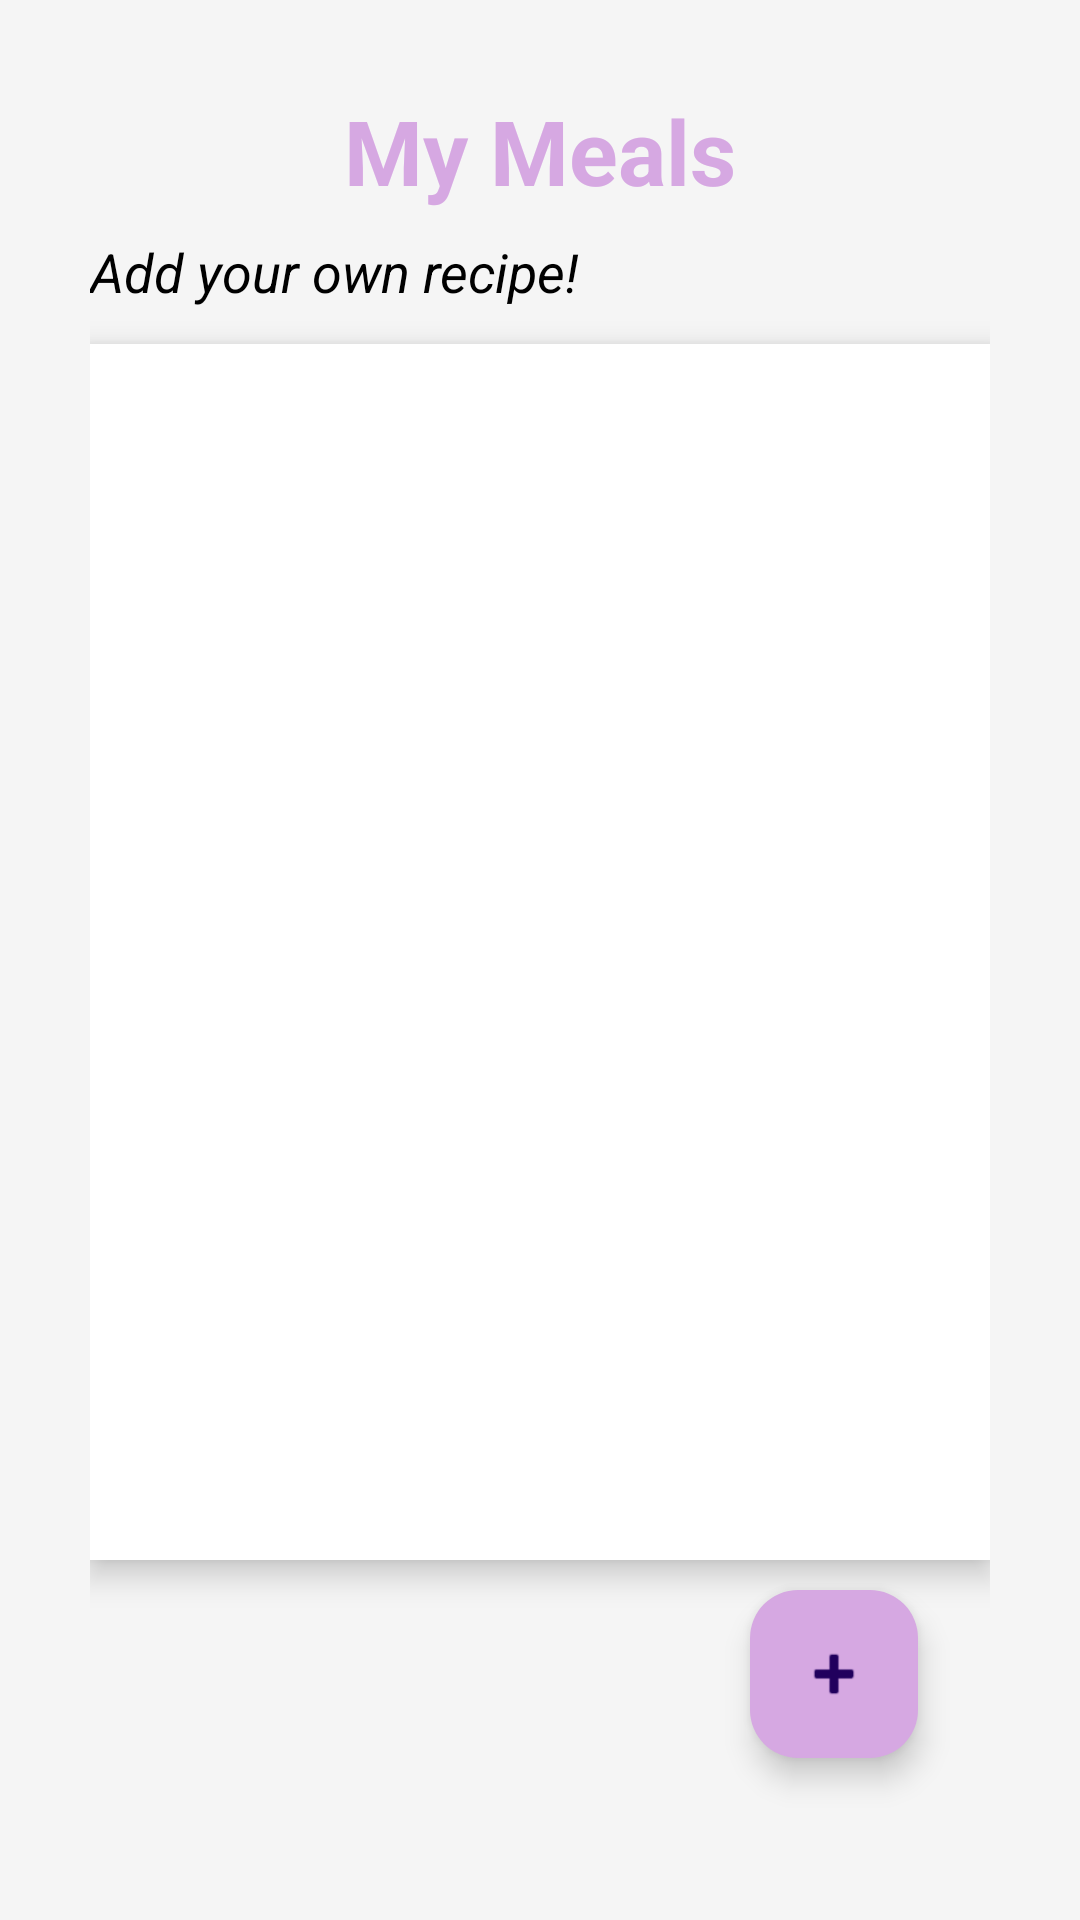

Icon bounding boxes for this 1080x1920 phone screenshot, format (x1, y1, x2, y2):
Add Meal: (750, 1590, 918, 1758)
